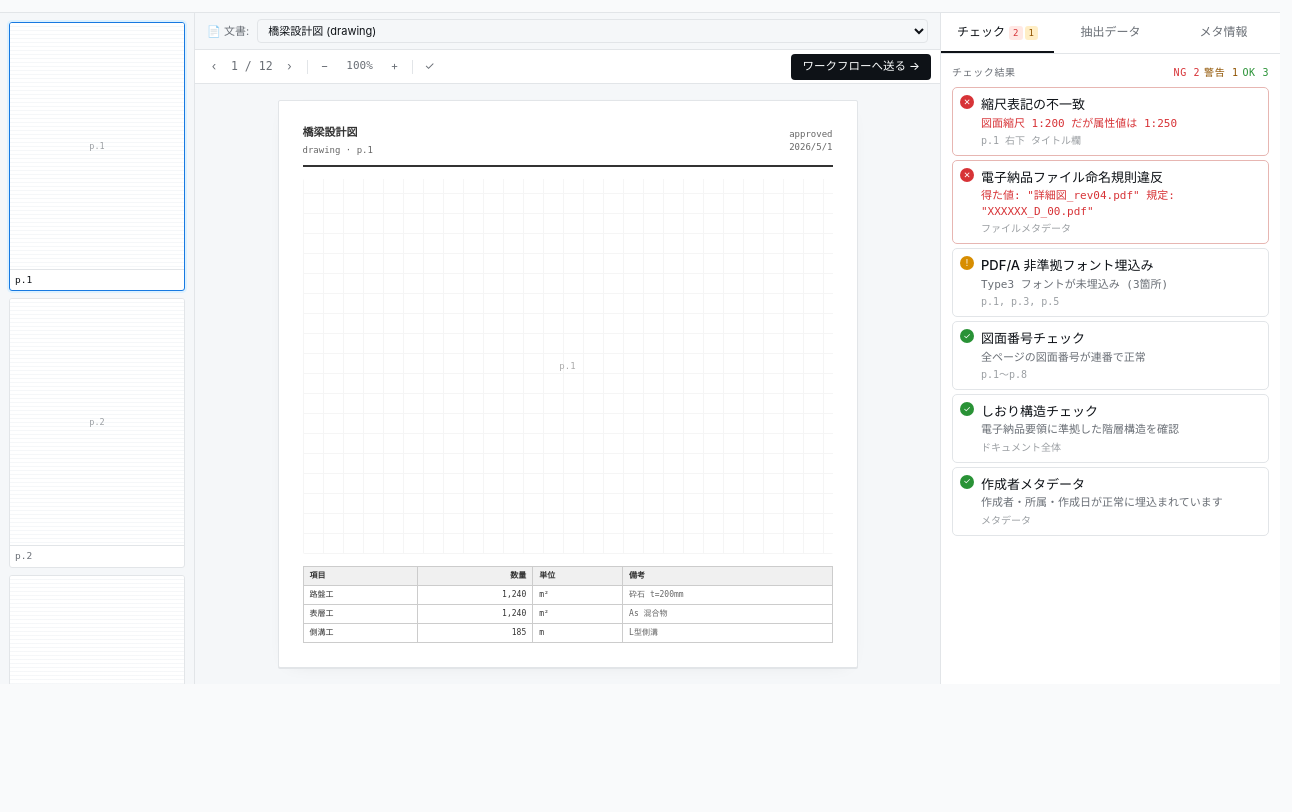
Test: ViewerView › shows document metadata in meta tab when doc is selected
This screenshot has width=1292, height=812.
Check: the dropdown is shown, box [257, 19, 928, 43]
// メタ情報タブをクリック
Click the tab "メタ情報".
click(1224, 33)  # box [1167, 13, 1280, 53]
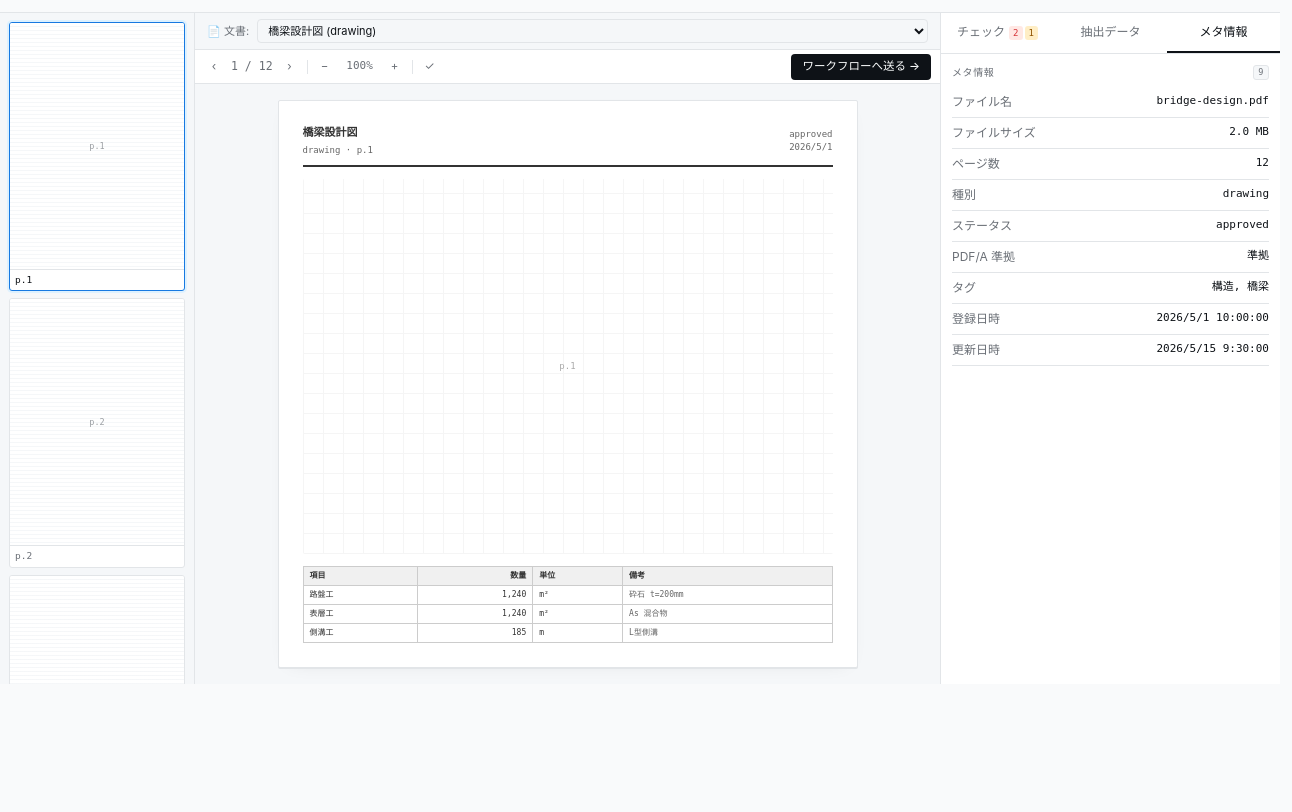
Check: the text "準拠" is shown, box [1247, 248, 1269, 266]
Check: the text "bridge-design.pdf" is shown, box [1156, 93, 1269, 111]
Check: the text "12" is shown, box [1256, 155, 1269, 173]
